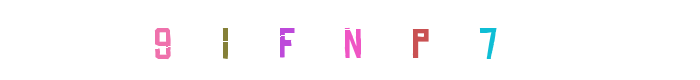7: (449, 0, 529, 80)
9: (185, 0, 265, 80)
F: (244, 0, 324, 80)
I: (227, 0, 307, 80)
N: (310, 0, 390, 80)
P: (378, 0, 458, 80)
